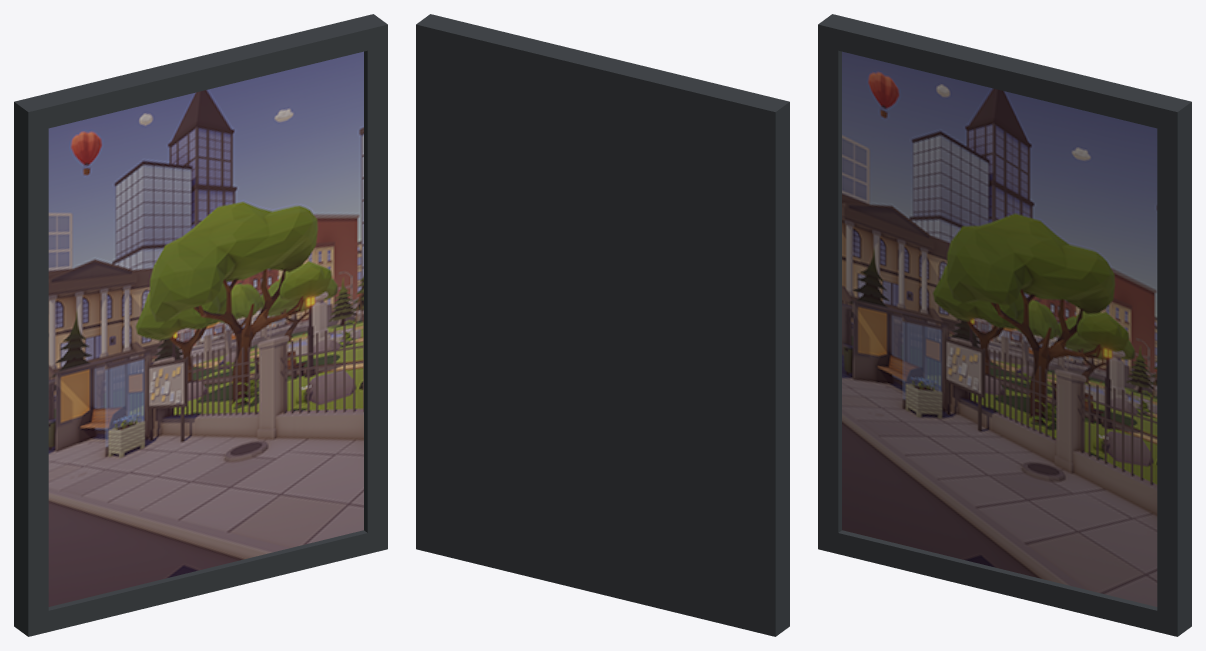
The model's file is Painting_29.fbx.
The picture shows the model from 3 angles, left to right: view 1: azimuth 30°, elevation 25°; view 2: azimuth 150°, elevation 25°; view 3: azimuth 330°, elevation 25°; orthographic projection.
Parts seen in each view (by area): view 1: Painting_29; view 2: Painting_29; view 3: Painting_29.
Part boxes in pixels (x1,y1,x2,y2): Painting_29: (14,14,387,636); Painting_29: (416,14,789,636); Painting_29: (818,14,1191,636).
Bounding box in the file's own units: 45.37 × 63.27 × 3.14.
